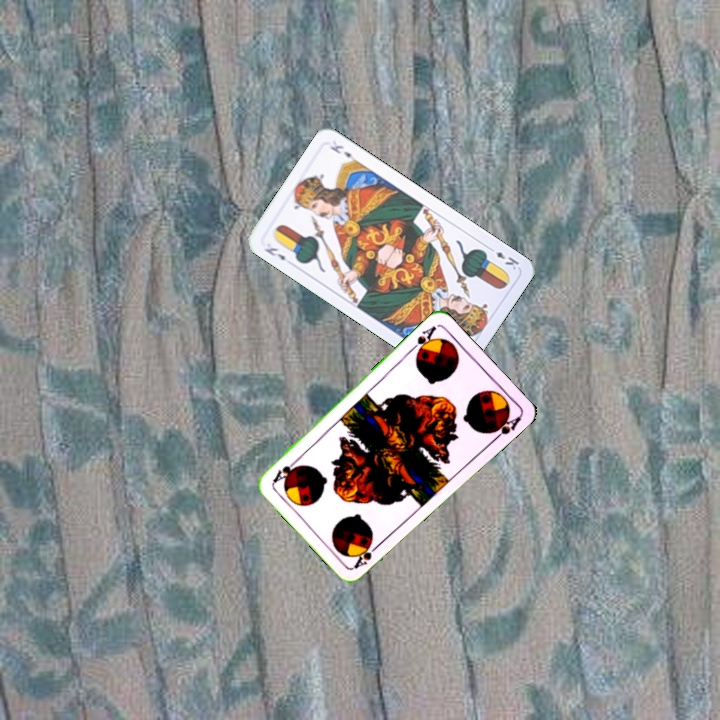EK: (484, 243, 521, 272), (260, 243, 288, 263)
SA: (406, 322, 439, 358), (350, 538, 383, 571)
